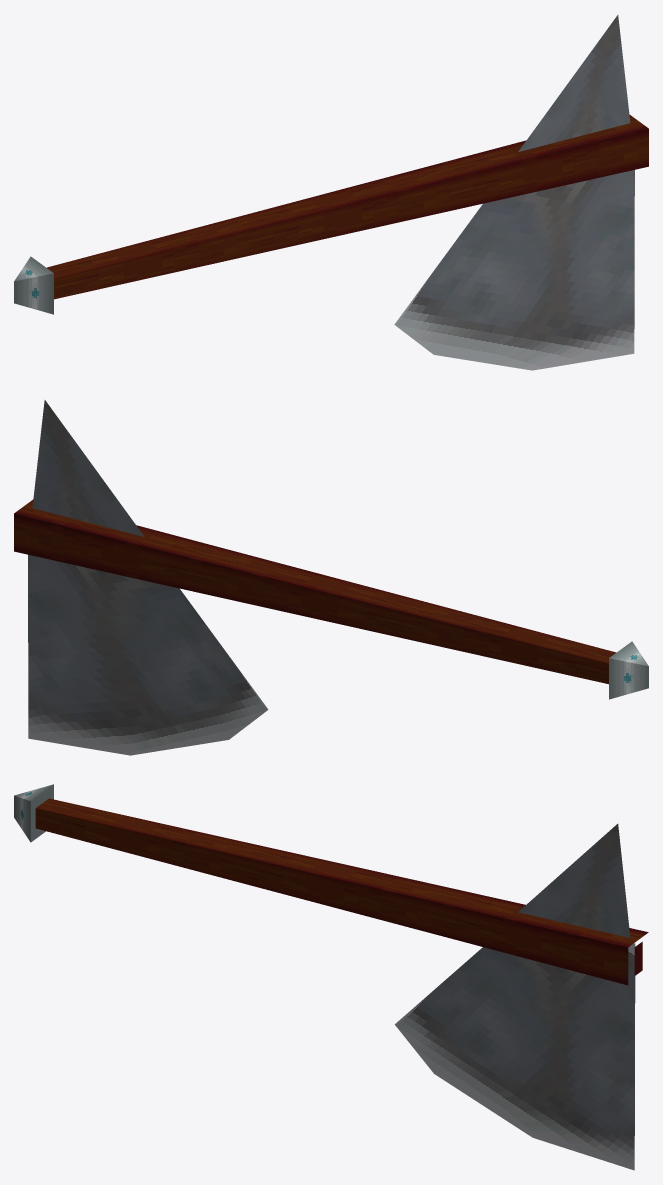
The picture shows the model from 3 angles, top to bottom: view 1: azimuth 30°, elevation 25°; view 2: azimuth 150°, elevation 25°; view 3: azimuth 330°, elevation 25°; orthographic projection.
Parts seen in each view (by area): view 1: it3; view 2: it3; view 3: it3.
Part boxes in pixels (x1,y1,x2,y2): it3: [14, 15, 648, 370]; it3: [14, 400, 648, 755]; it3: [14, 784, 648, 1170].
Size of the model in its own units: 2 by 1.05 by 0.1292.
Materials: 3 (3 with a texture image).
